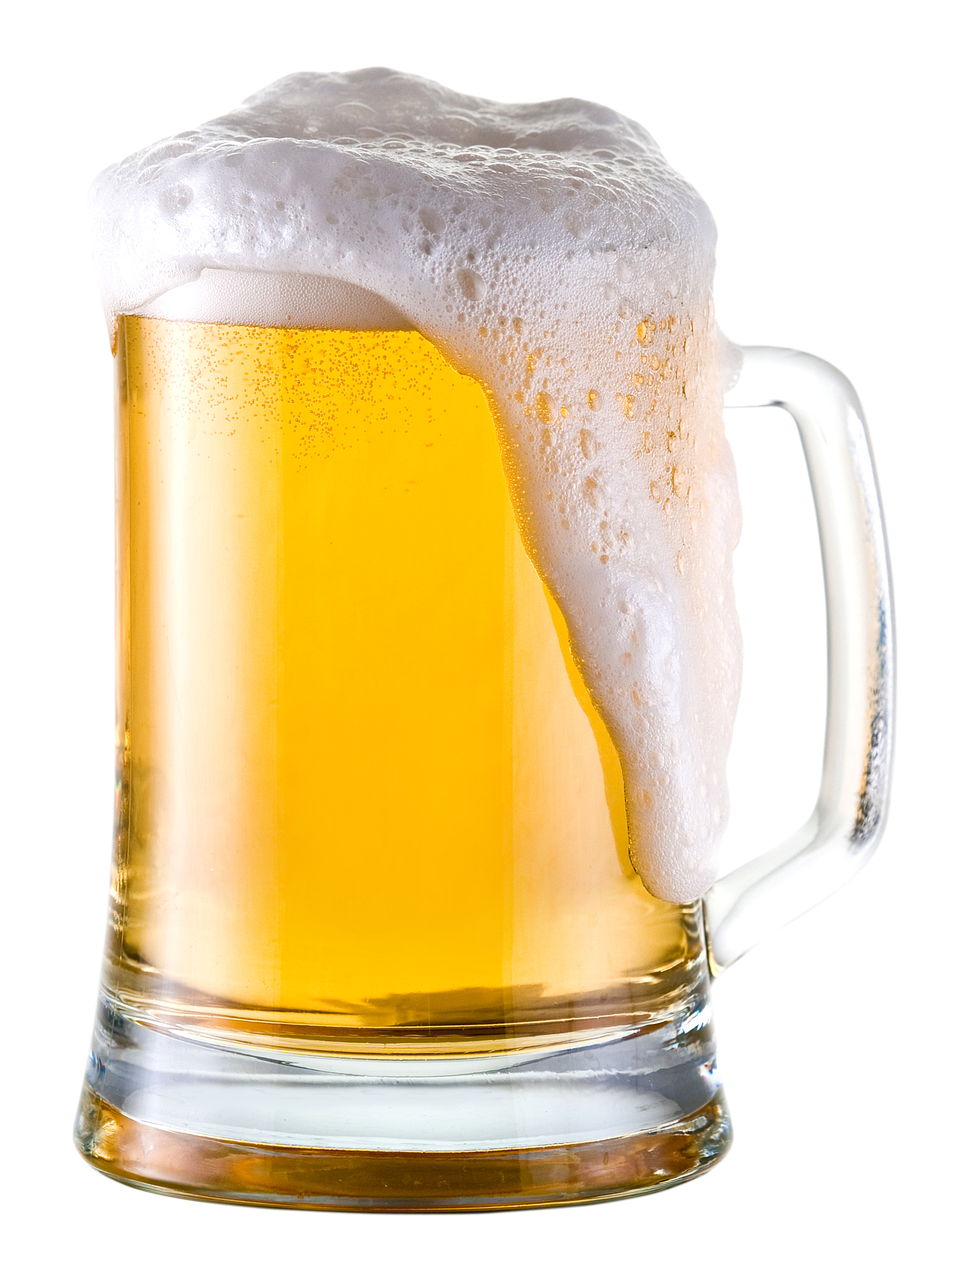mug: (32, 93, 881, 1177)
